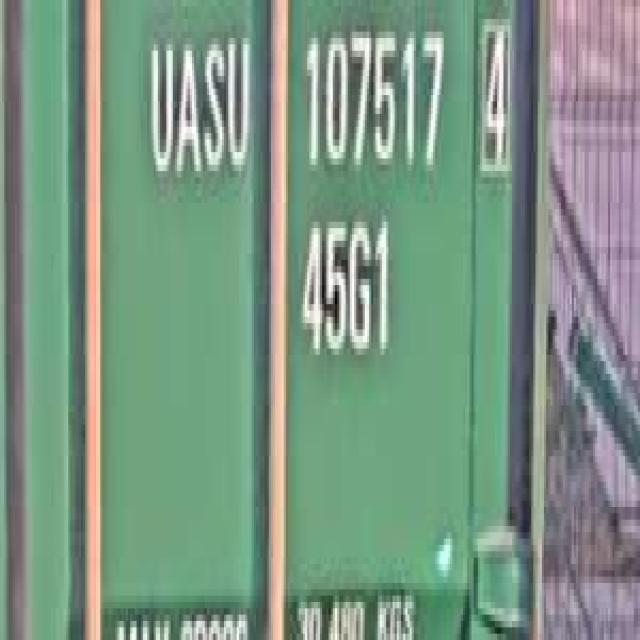dv: (475, 0, 514, 177)
owner: (143, 12, 252, 196)
serial: (296, 0, 446, 190)
size: (294, 203, 395, 374)
